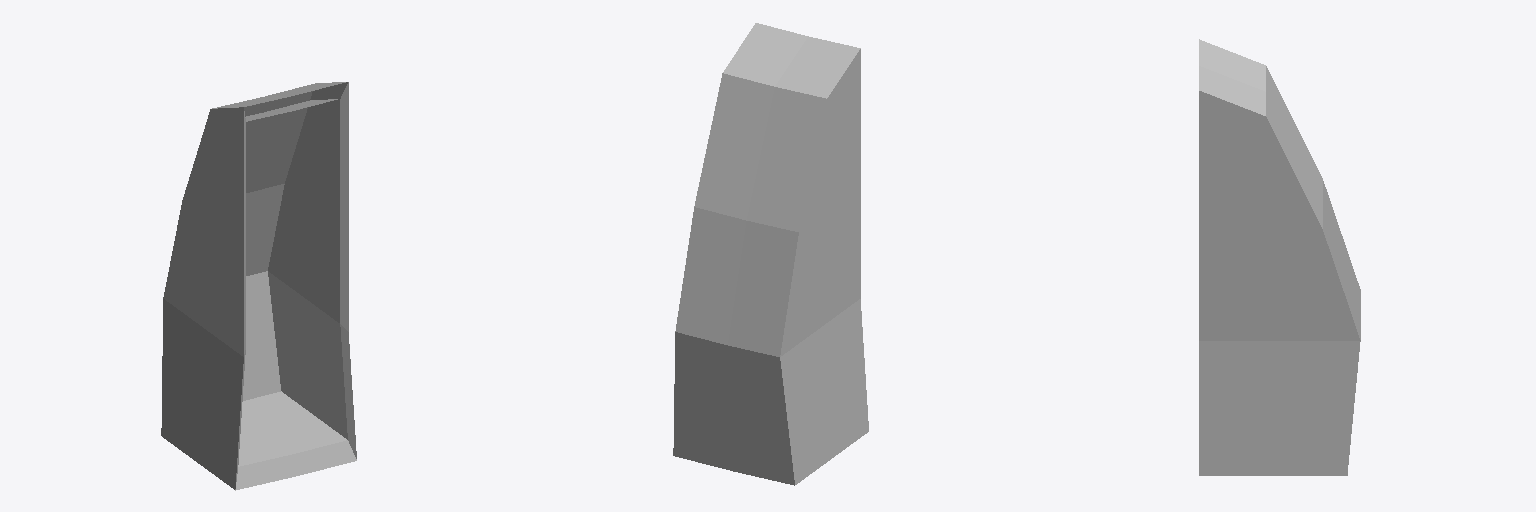
File: bottomcover.obj
3 views of the same model, side by side, from view 1: azimuth 30°, elevation 25°; view 2: azimuth 150°, elevation 25°; view 3: azimuth 270°, elevation 25° (orthographic).
Parts seen in each view (by area): view 1: cover.001_Sphere.015; view 2: cover.001_Sphere.015; view 3: cover.001_Sphere.015.
Boxes of the visible parts, box(x1,y1,x2,y2) form: cover.001_Sphere.015: box(161, 82, 356, 490); cover.001_Sphere.015: box(673, 23, 868, 485); cover.001_Sphere.015: box(1199, 39, 1360, 475).
Size of the model in its own units: 1.05 by 3.14 by 1.2.